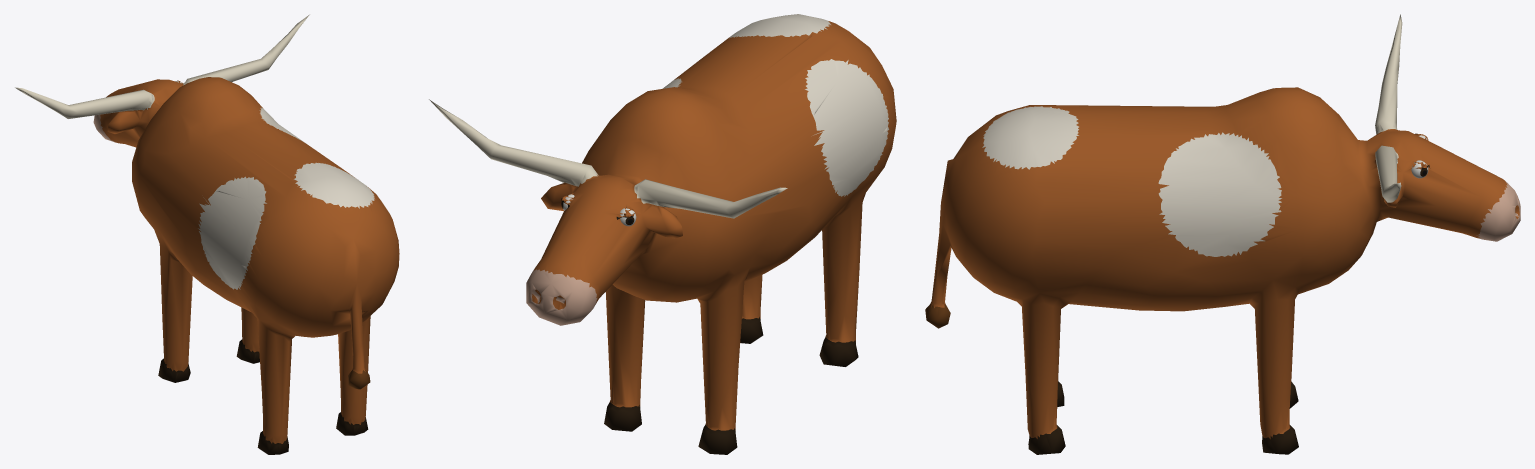
File: cow-a.glb
The picture shows the model from 3 angles, left to right: view 1: azimuth 30°, elevation 25°; view 2: azimuth 150°, elevation 25°; view 3: azimuth 270°, elevation 25°; orthographic projection. The views are drawn at different scales.
Visible parts, largest first — view 1: body_lod0; view 2: body_lod0; view 3: body_lod0.
Part boxes in pixels (x1=…): body_lod0: x1=15, y1=14, x2=399, y2=454; body_lod0: x1=429, y1=14, x2=896, y2=454; body_lod0: x1=925, y1=14, x2=1520, y2=454.
Size of what is drawn, in the model's own units: 1.81 by 1.66 by 2.68.
